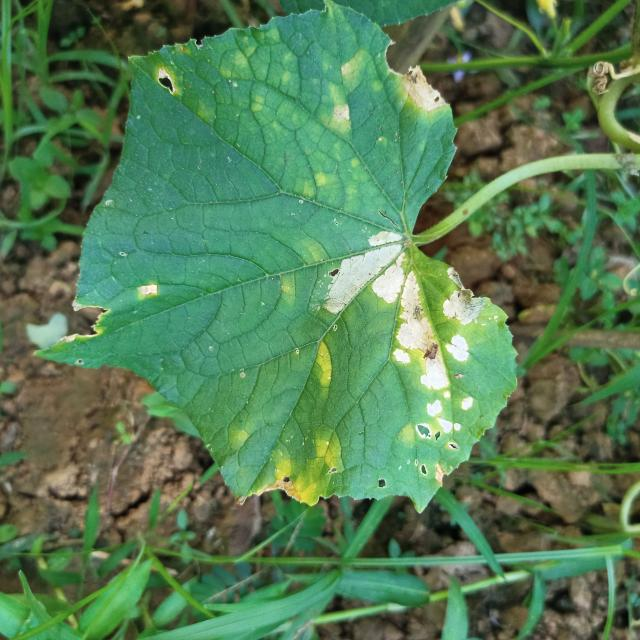disease_cucumber: (318, 224, 487, 491), (266, 426, 346, 510), (313, 48, 373, 144), (307, 336, 340, 396)
